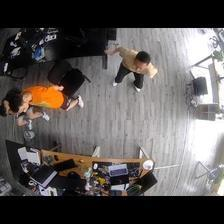normal: (105, 44, 154, 94), (15, 84, 82, 113)
